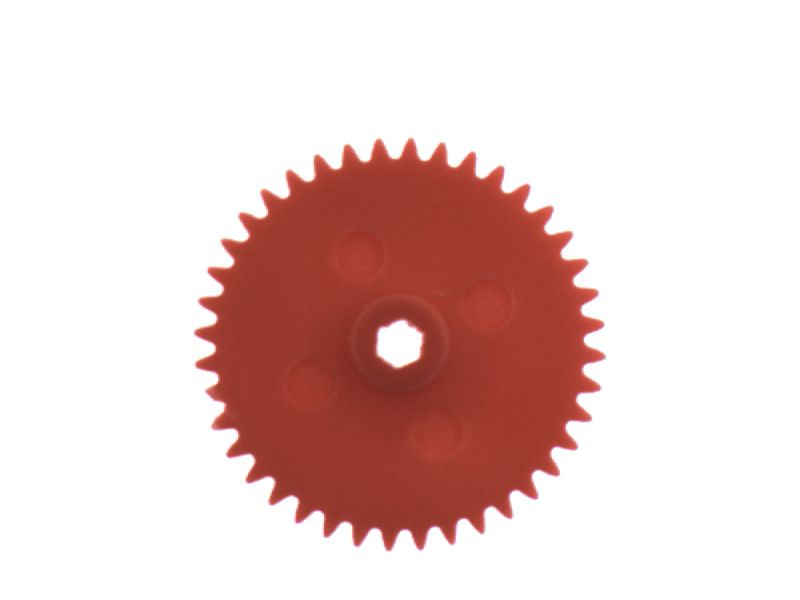defect_break: (189, 377, 237, 417)
